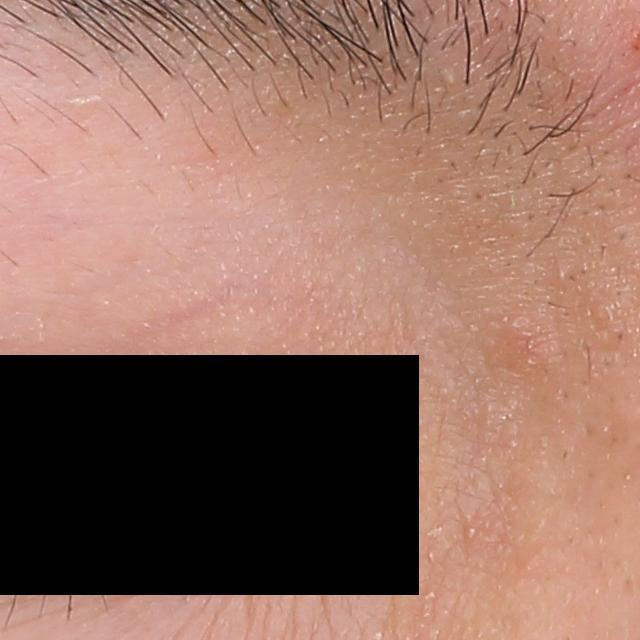comedo: (461, 522, 480, 540)
